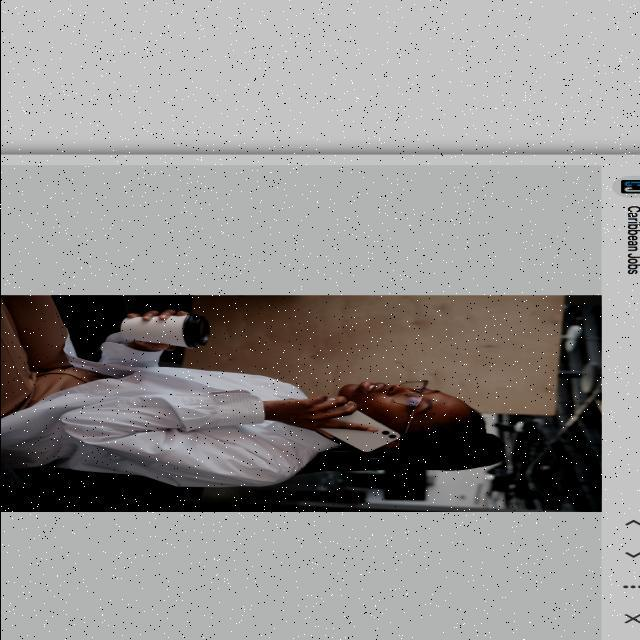face_no_mask: (334, 379, 469, 435)
